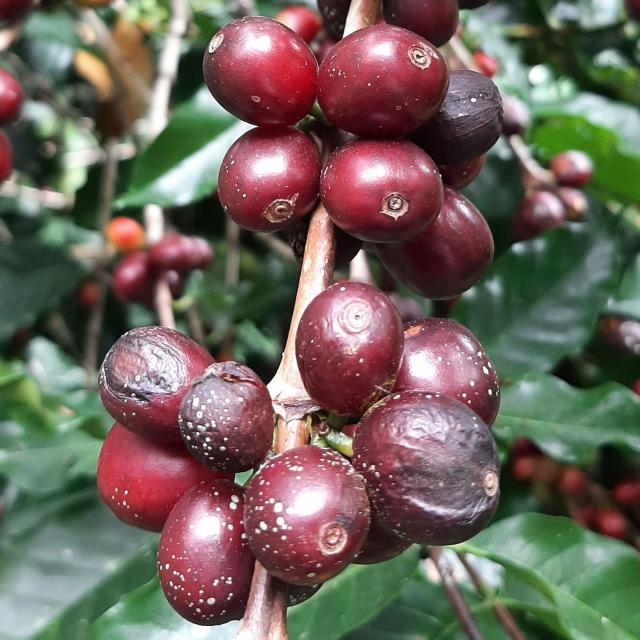red: (353, 391, 500, 547), (244, 446, 371, 586), (317, 23, 450, 137), (96, 422, 231, 533), (296, 281, 405, 417), (157, 480, 255, 627), (98, 327, 214, 444), (376, 187, 495, 300), (320, 137, 444, 242), (203, 15, 318, 126), (393, 318, 501, 427), (218, 126, 321, 231), (178, 362, 274, 474), (410, 69, 504, 165), (353, 519, 413, 565)
